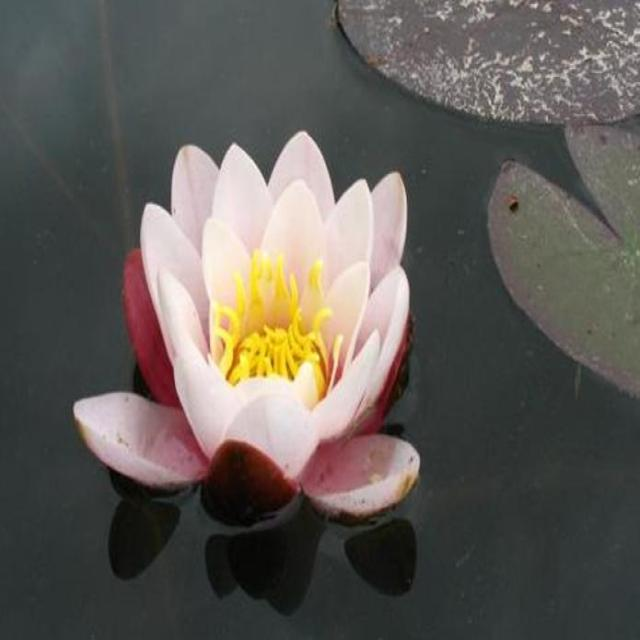rose: (44, 67, 508, 608)
